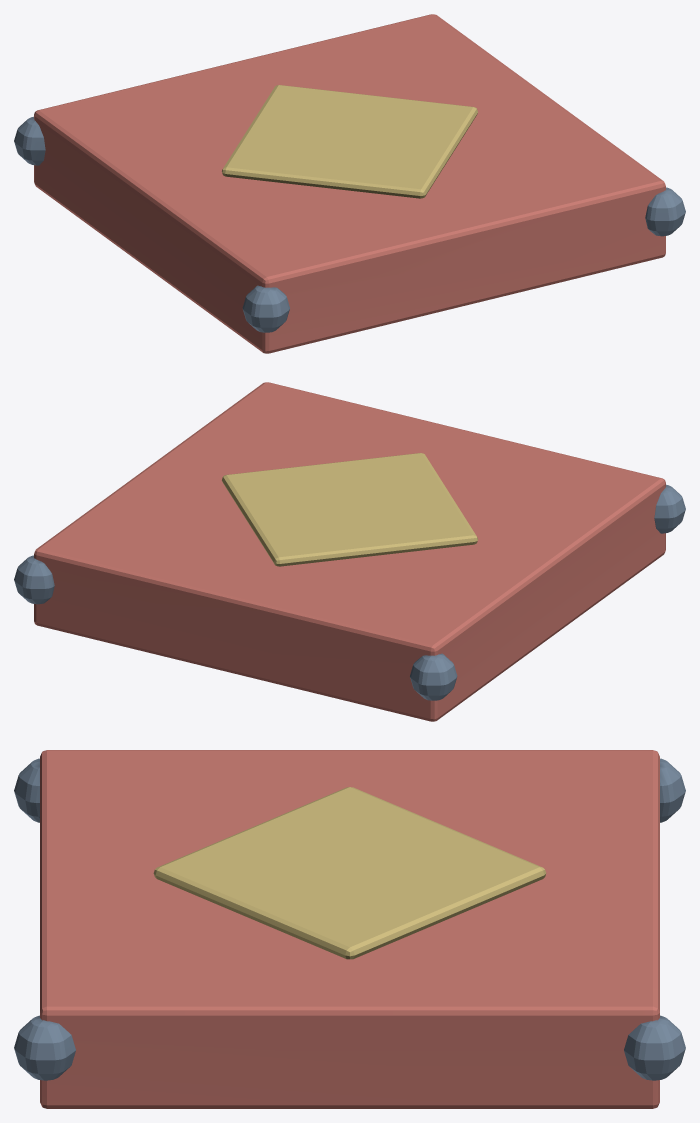
The model's file is furn_floor_cushion__red.glb.
3 views of the same model, one above another, from view 1: azimuth 30°, elevation 25°; view 2: azimuth 150°, elevation 25°; view 3: azimuth 270°, elevation 25° (orthographic). The views are drawn at different scales.
Size of the model in its own units: 0.592 by 0.111 by 0.5964.
